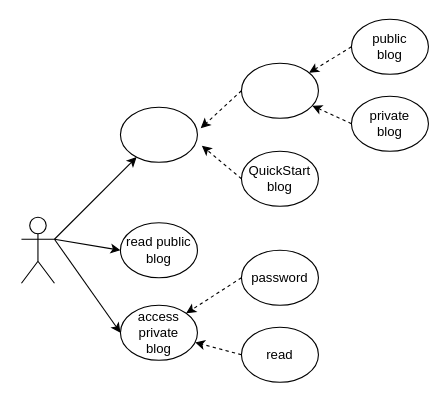
Some shapes in this 448 by 402 pixel diagram are drawn without their labels. Each missing label, with the centre of its shape:
"home page" goes at point 158,134.
"manage blog list" goes at point 279,90.
"reader" goes at point 37,249.
